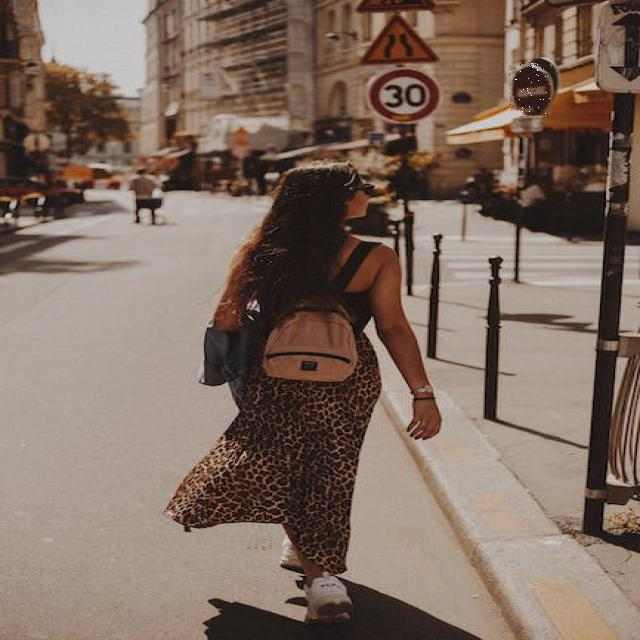no entry: (508, 62, 552, 116)
